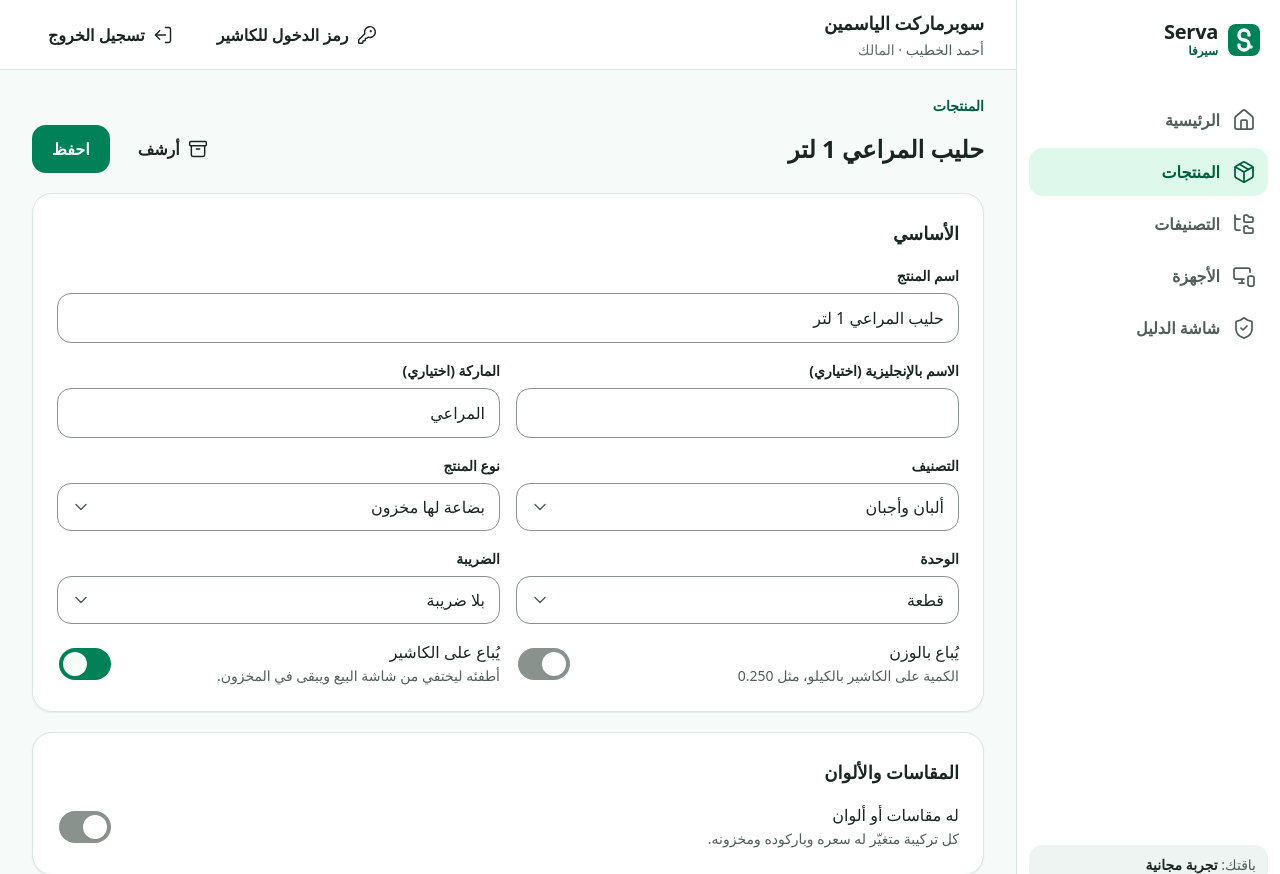
Test case: an existing product › says when there is nothing to save
Expected: the field labelled "اسم المنتج" is shown, [58,294,958,342]
Step 1. Click the button "احفظ" → point(71, 149), box [32,125,110,173]
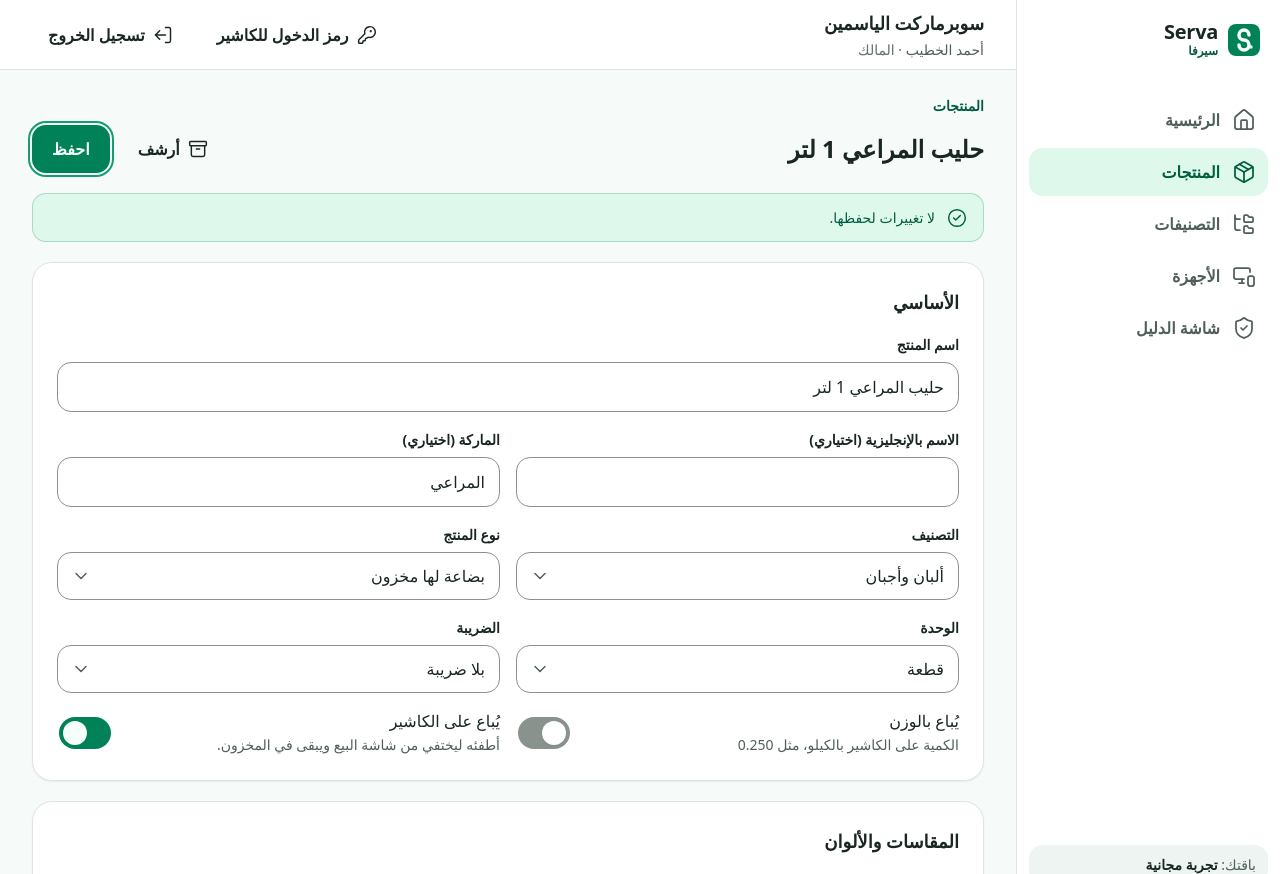
Result: the text "لا تغييرات لحفظها." is shown at [830,206,935,229]
